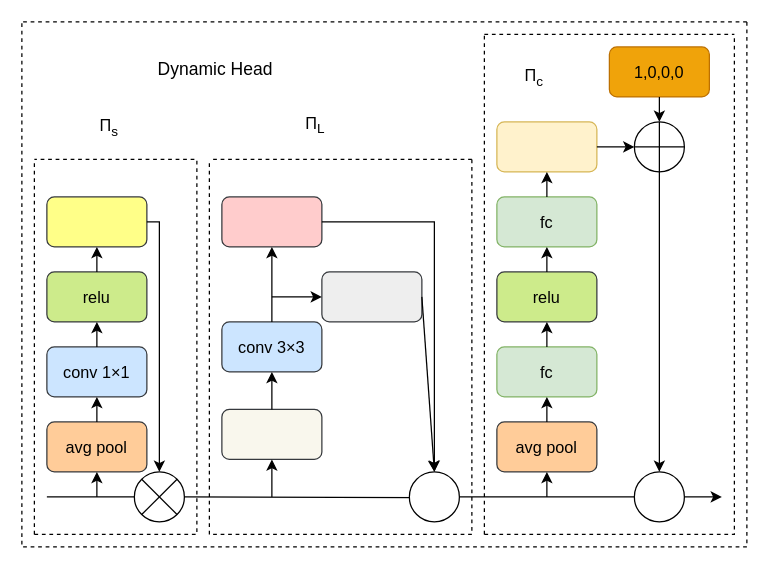
This 770x570 diagram has some shape labels left out. The shapes that lost their labels are listed below. From the top down, each one's centre as x and y in pixels, then its label:
point 546,146: normalize
point 96,221: hard sigmoid
point 271,221: off set
point 371,296: sigmoid
point 271,433: idex
